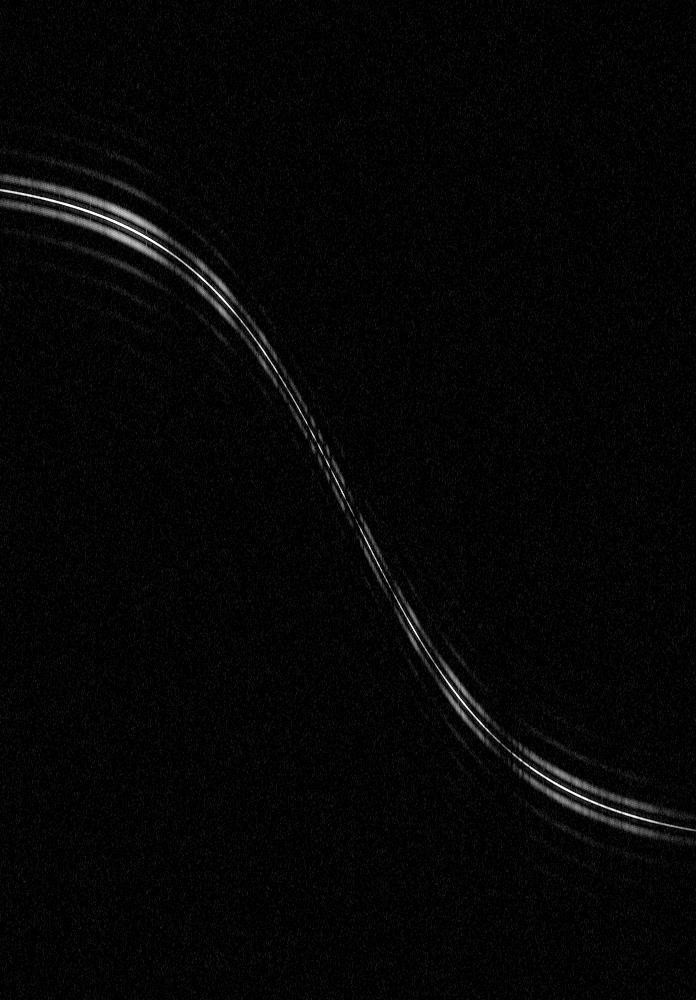signal: (0, 0, 695, 999)
